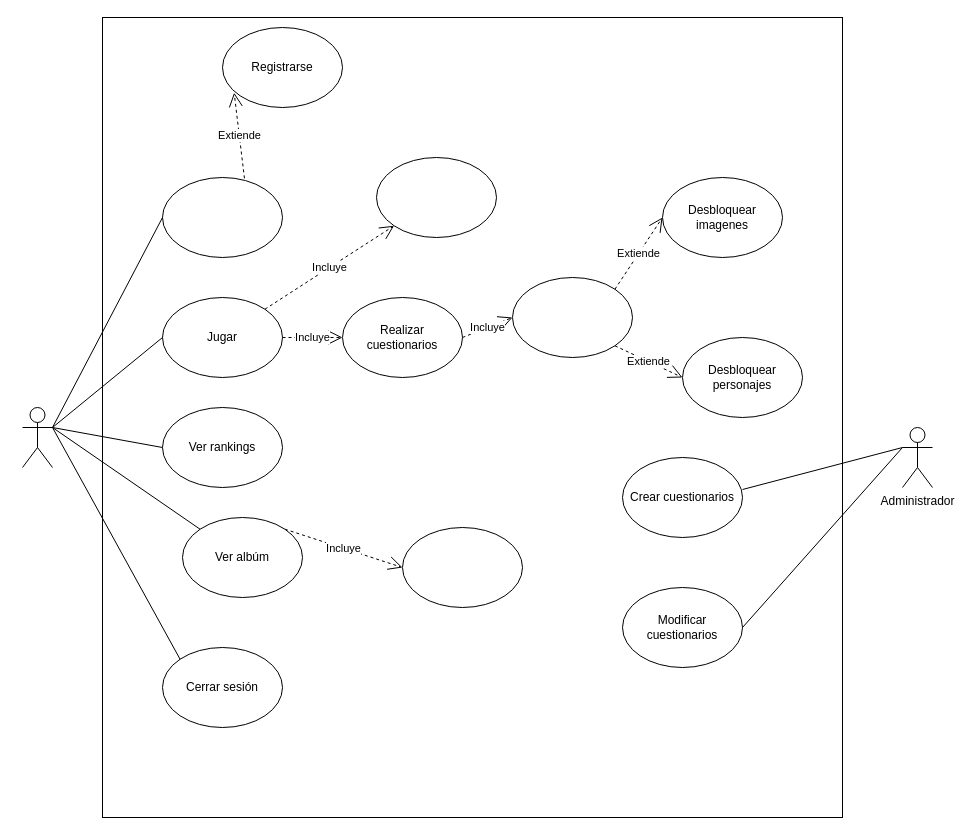
This 972x835 diagram has some shape labels left out. Here are the shapes that lost their labels. From the top down, the centre of each, then its label:
At pixel 222 217: "Ingresar al sistema".
At pixel 436 197: "Escoger personajes".
At pixel 572 317: "Obtener experiencia".
At pixel 37 437: "Usuario".
At pixel 462 567: "Ver imágenes desbloqueadas".
